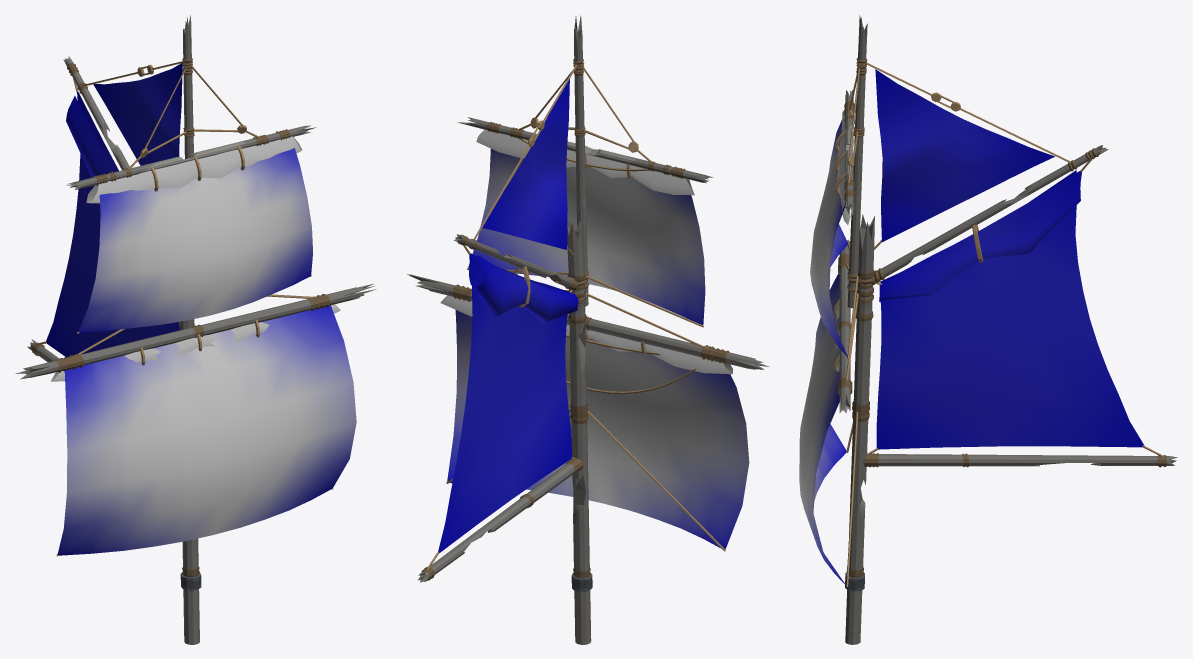
The model's file is SM_Veh_Ship_M_Mast_Back_02.fbx.
3 views of the same model, side by side, from view 1: azimuth 30°, elevation 25°; view 2: azimuth 150°, elevation 25°; view 3: azimuth 270°, elevation 25° (orthographic).
Parts seen in each view (by area): view 1: SM_Veh_Ship_M_Mast_Back_02_Boom_01, SM_Veh_Ship_M_Mast_Back_02, SM_Veh_Ship_M_Mast_Back_02_Boom_Back_01; view 2: SM_Veh_Ship_M_Mast_Back_02_Boom_01, SM_Veh_Ship_M_Mast_Back_02, SM_Veh_Ship_M_Mast_Back_02_Boom_Back_01; view 3: SM_Veh_Ship_M_Mast_Back_02_Boom_Back_01, SM_Veh_Ship_M_Mast_Back_02, SM_Veh_Ship_M_Mast_Back_02_Boom_01.
Boxes of the visible parts, box(x1,y1,x2,y2) form: SM_Veh_Ship_M_Mast_Back_02_Boom_01: box(50, 136, 356, 556); SM_Veh_Ship_M_Mast_Back_02: box(15, 15, 376, 644); SM_Veh_Ship_M_Mast_Back_02_Boom_Back_01: box(37, 78, 179, 357); SM_Veh_Ship_M_Mast_Back_02_Boom_01: box(440, 129, 749, 551); SM_Veh_Ship_M_Mast_Back_02: box(407, 15, 769, 644); SM_Veh_Ship_M_Mast_Back_02_Boom_Back_01: box(426, 245, 578, 569); SM_Veh_Ship_M_Mast_Back_02_Boom_Back_01: box(867, 159, 1163, 456); SM_Veh_Ship_M_Mast_Back_02: box(838, 15, 1177, 644); SM_Veh_Ship_M_Mast_Back_02_Boom_01: box(799, 110, 858, 587).
Size of the model in its own units: 1856 by 3090 by 1693.
